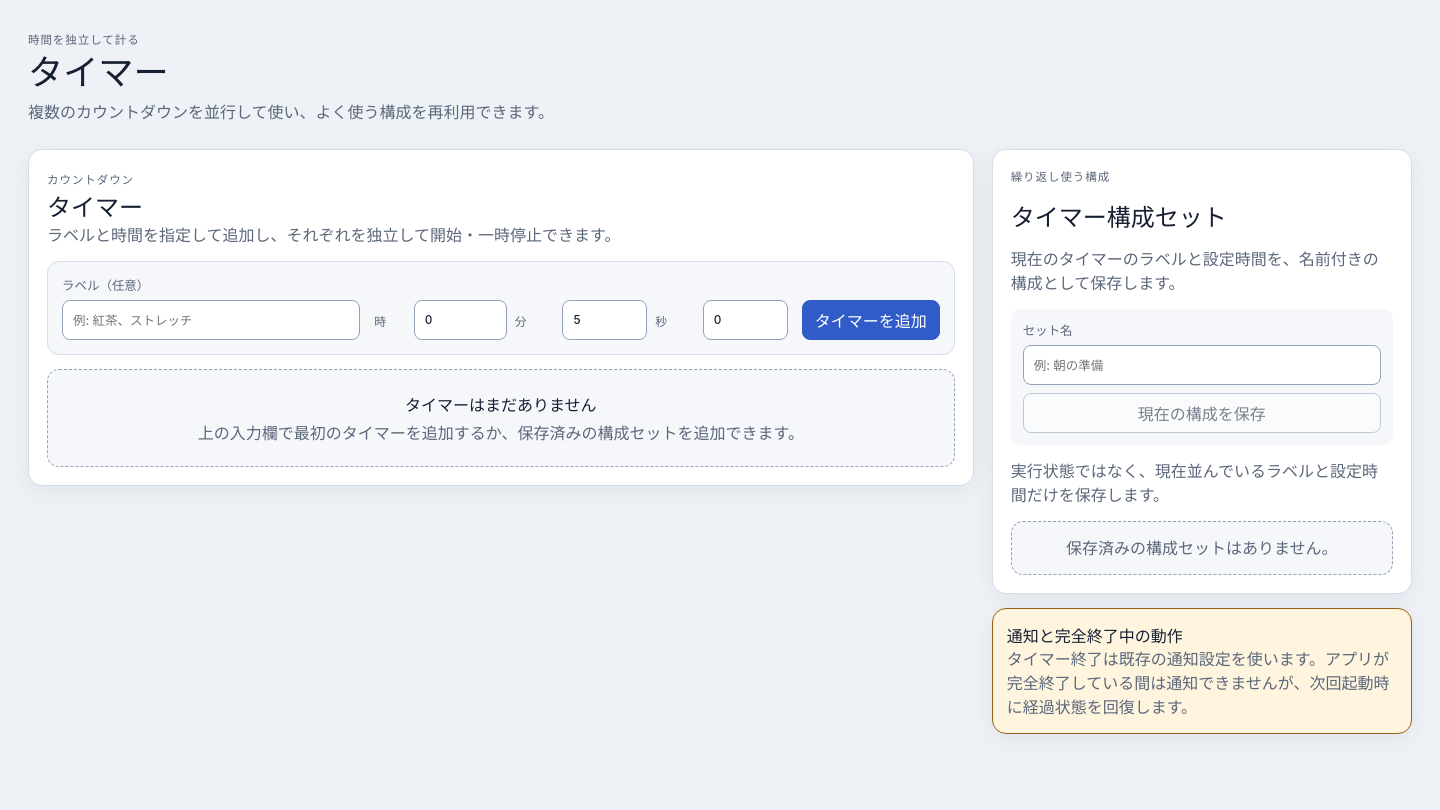
Test: TimersView › saves a configuration set and adds it without replacing current timers
Check: the heading "タイマー" below "時間を独立して計る" is shown, box [28,51,169,93]
Type "休憩" into the field with placeholder "例: 紅茶、ストレッチ" at (211, 320), box [62,300,360,340]
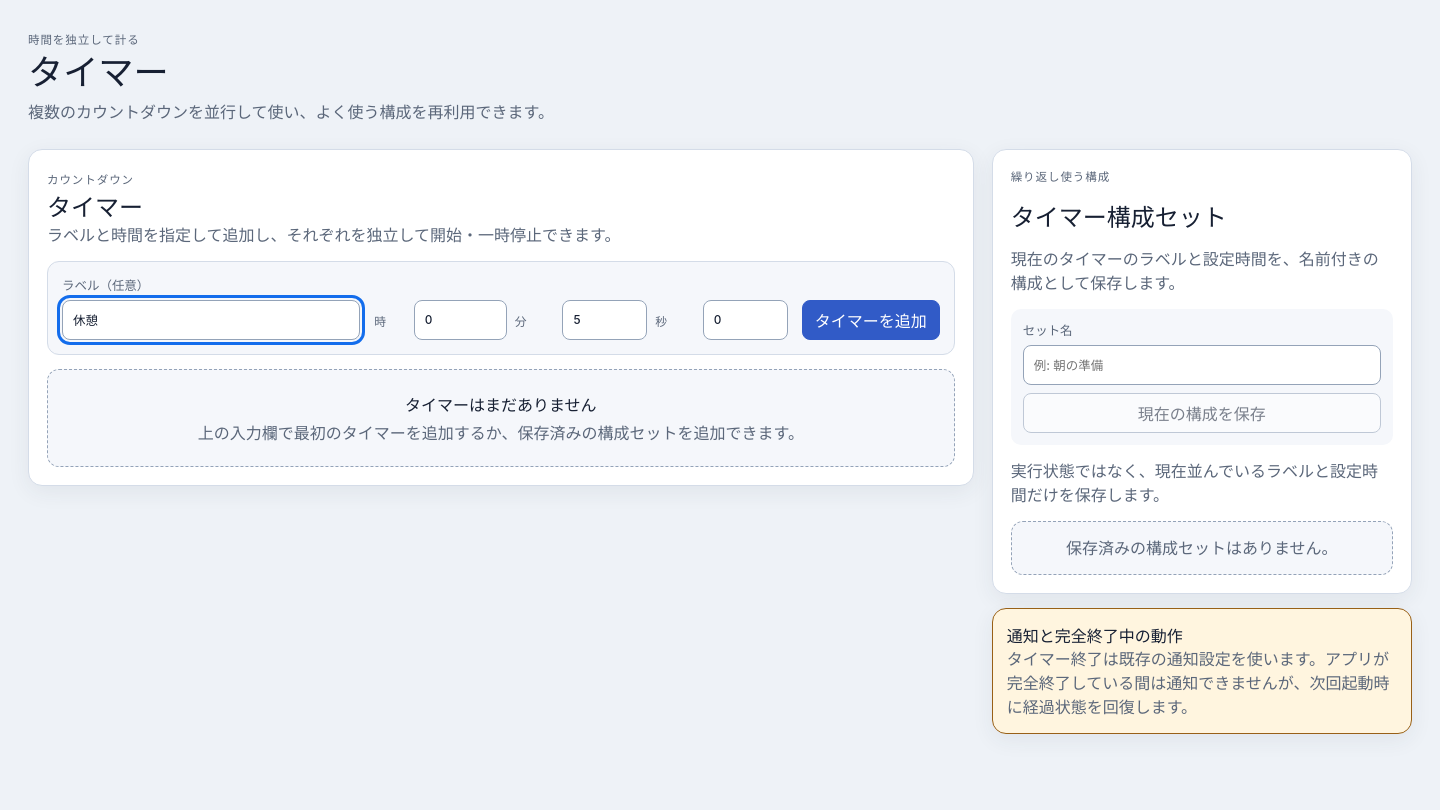
Click the button "タイマーを追加" at (871, 320), box [802,300,940,340]
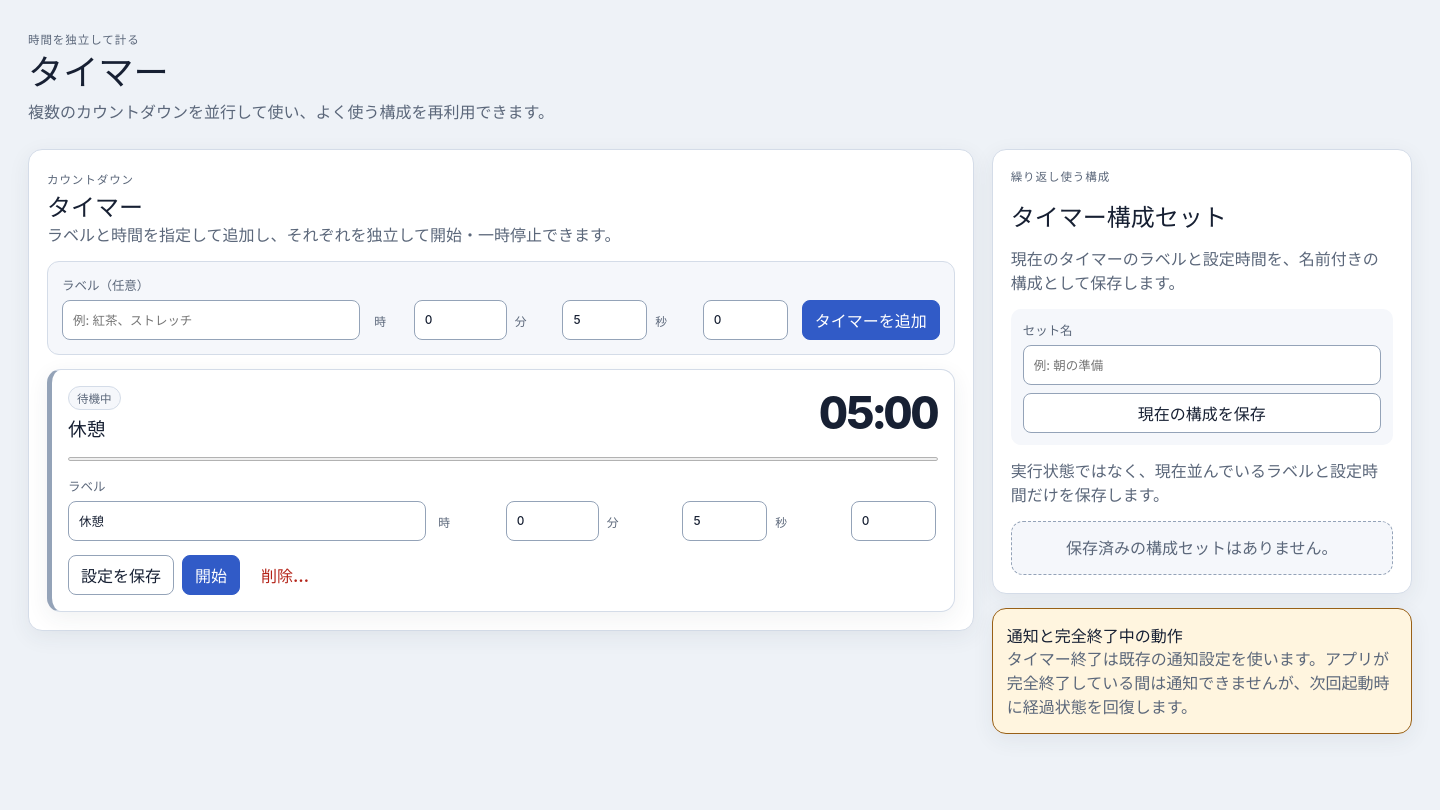
Check: the heading "休憩" is shown, box [68,418,105,441]
Type "午後セット" into the field with placeholder "例: 朝の準備" at (1202, 365), box [1023,345,1381,385]
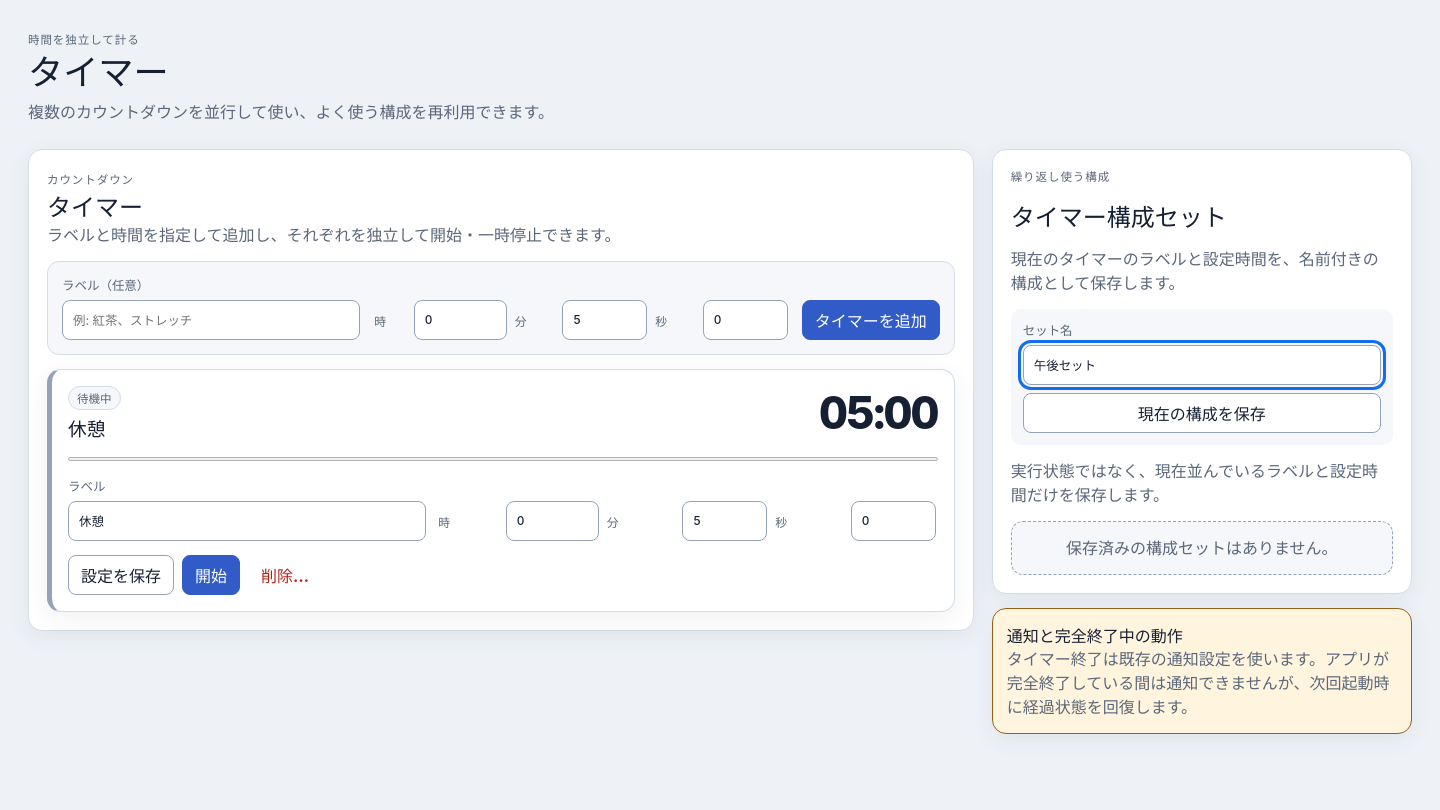
Click the button "現在の構成を保存" at (1202, 413), box [1023,393,1381,433]
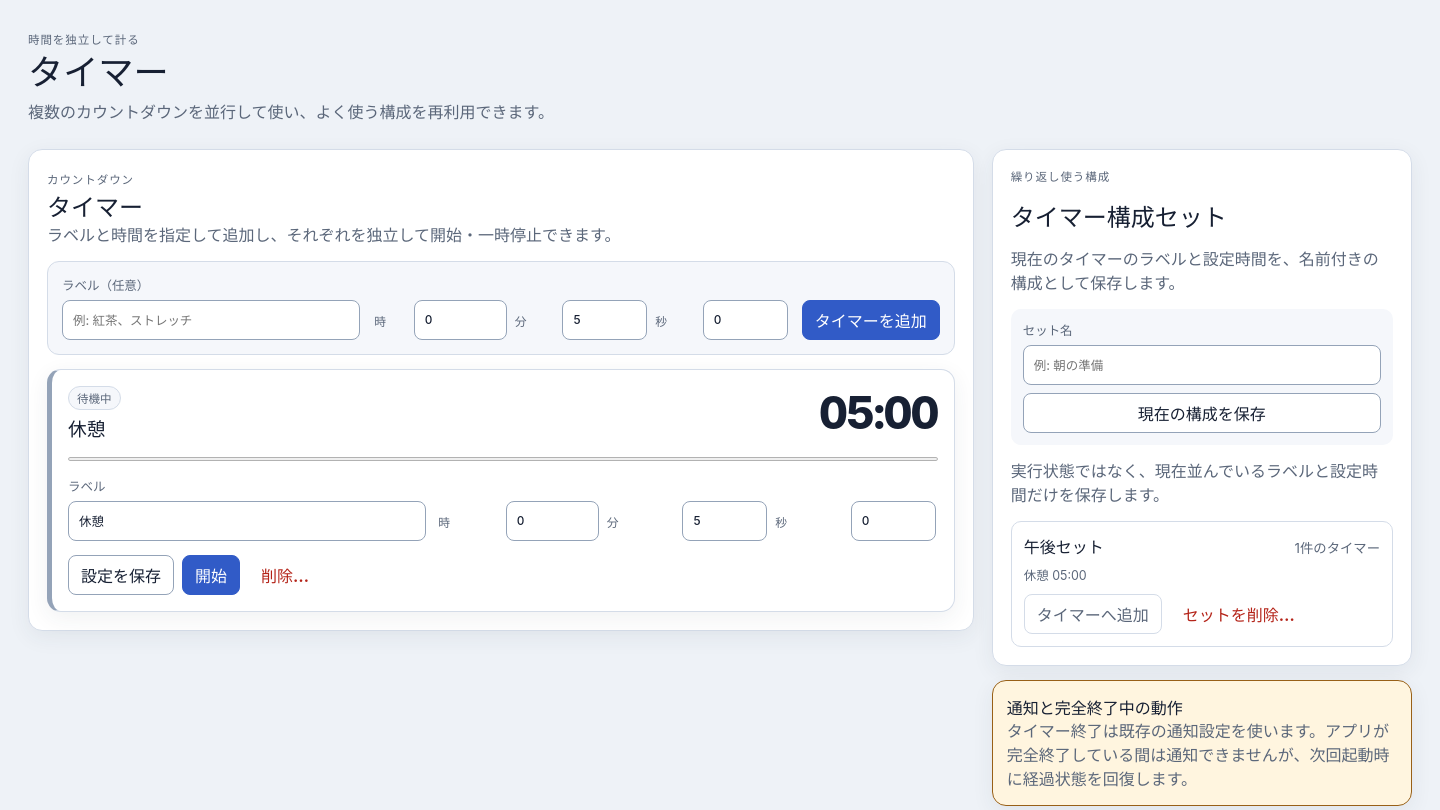
Check: the text "午後セット" is shown, box [1024,534,1104,558]
Click the button "タイマーへ追加" at (1093, 614), box [1024,594,1162,634]
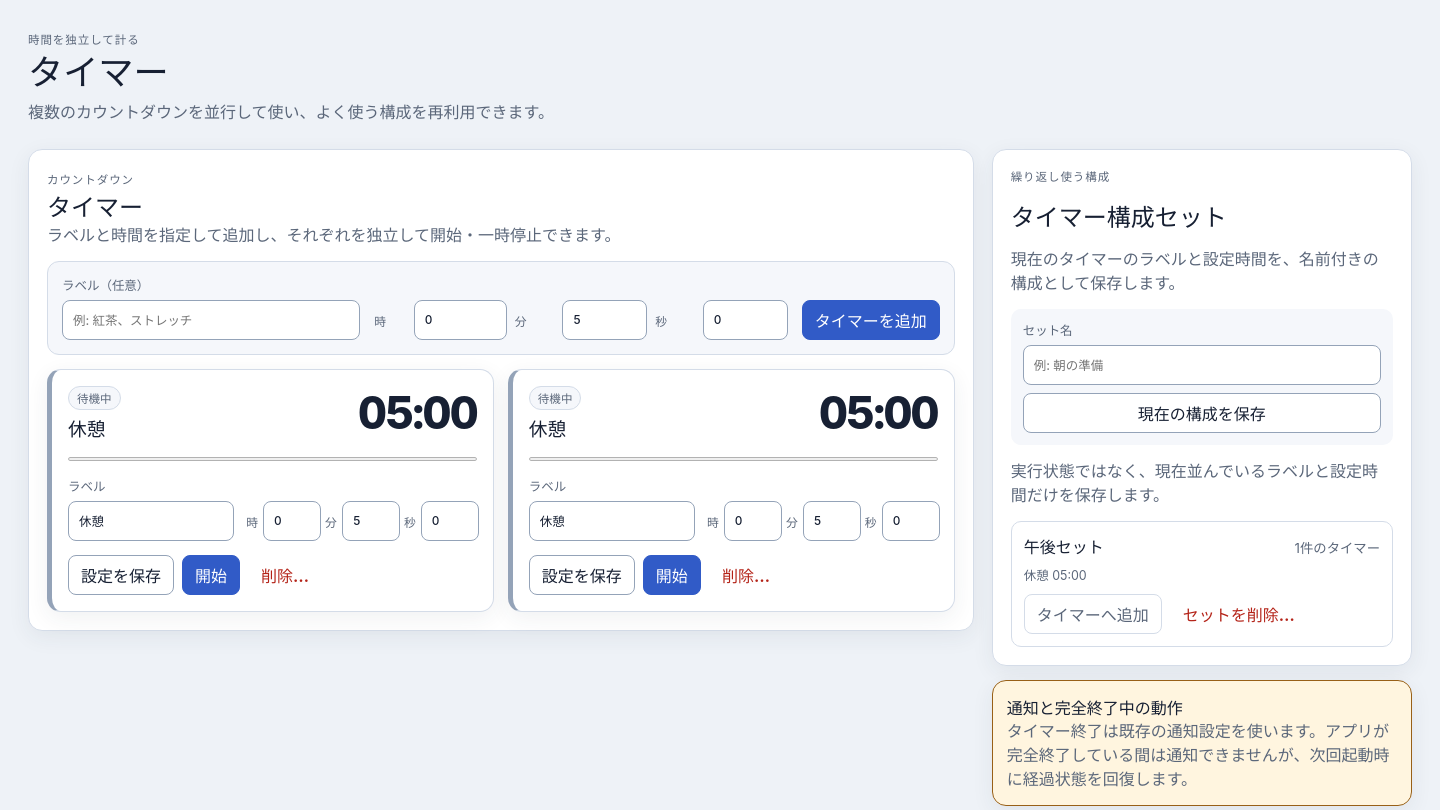
Check: the number of headings "休憩" is 2, box [68,418,105,441]; [529,418,566,441]
